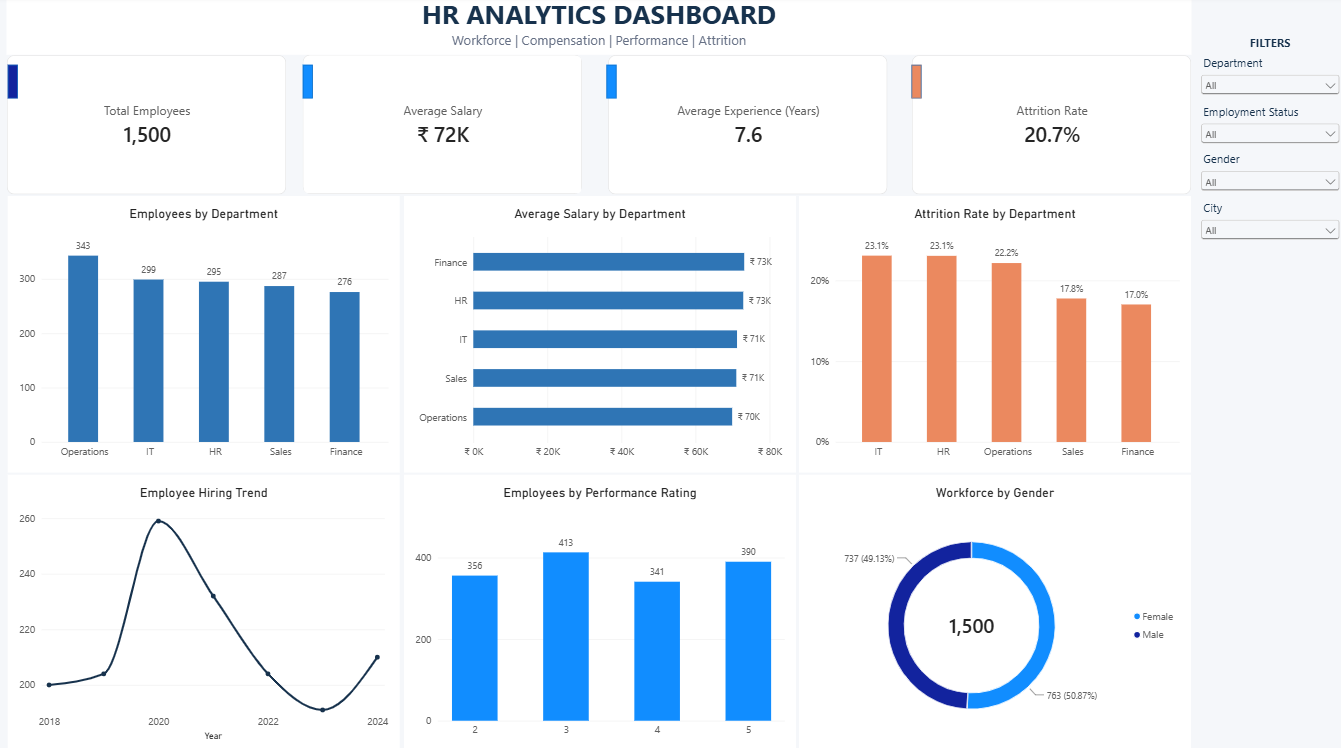

What the dashboard file says about the page in this screenshot:
{"tool":"powerbi","page":{"name":"Page 1","canvas":[1920,1080],"ordinal":0},"visuals":[{"type":"cardVisual","fields":{"Data":["HR_Analytics.Total_Employees"]},"box":[10.7,83.9,400,200],"z":0},{"type":"cardVisual","fields":{"Data":["HR_Analytics.Average_Salary"]},"box":[434.4,83.9,400,200],"z":1000},{"type":"cardVisual","fields":{"Data":["HR_Analytics.Average_Experience"]},"box":[868.9,83.9,400,200],"z":2000},{"type":"cardVisual","fields":{"Data":["HR_Analytics.Attrition_Rate"]},"box":[1303.3,83.9,400,200],"z":3000},{"type":"clusteredColumnChart","title":"Employees by Department","fields":{"Category":["HR_Analytics.Department"],"Y":["HR_Analytics.Total_Employees"]},"box":[12.9,285.7,560,395],"z":4000},{"type":"barChart","title":"Average Salary by Department","fields":{"Category":["HR_Analytics.Department"],"Y":["HR_Analytics.Average_Salary"]},"box":[577.9,285.7,560,395],"z":5000},{"type":"columnChart","title":"Attrition Rate by Department","fields":{"Category":["HR_Analytics.Department"],"Y":["HR_Analytics.Attrition_Rate"]},"box":[1142.9,285.7,560,395],"z":6000},{"type":"lineChart","title":"Employee Hiring Trend","fields":{"Category":["HR_Analytics.Joining_Date.Variation.Date Hierarchy.Year","HR_Analytics.Joining_Date.Variation.Date Hierarchy.Quarter","HR_Analytics.Joining_Date.Variation.Date Hierarchy.Month","HR_Analytics.Joining_Date.Variation.Date Hierarchy.Day"],"Y":["HR_Analytics.Total_Employees"]},"box":[12.9,684.3,560,395],"z":7000},{"type":"columnChart","title":"Employees by Performance Rating","fields":{"Category":["HR_Analytics.Performance_Rating"],"Y":["HR_Analytics.Total_Employees"]},"box":[577.9,684.3,560,395],"z":8000},{"type":"donutChart","title":"Workforce by Gender","fields":{"Category":["HR_Analytics.Gender"],"Y":["HR_Analytics.Total_Employees"]},"box":[1142.9,684.3,560,395],"z":9000},{"type":"slicer","fields":{"Values":["HR_Analytics.Department"]},"box":[1712.5,83.9,207.1,214.3],"z":10000},{"type":"slicer","fields":{"Values":["HR_Analytics.Gender"]},"box":[1712.5,221.4,207.1,114.3],"z":11000},{"type":"slicer","fields":{"Values":["HR_Analytics.City"]},"box":[1712.5,291.1,207.1,292.9],"z":12000},{"type":"slicer","fields":{"Values":["HR_Analytics.Employment_Status"]},"box":[1712.5,153.6,207.1,117.9],"z":13000},{"type":"textbox","box":[10.7,0,1692.9,83.9],"z":14000},{"type":"shape","box":[433.9,98.2,14.3,48.2],"z":15000},{"type":"shape","box":[12.9,98.6,14.3,48.2],"z":16000},{"type":"shape","box":[868.6,98.6,14.3,48.2],"z":17000},{"type":"shape","box":[1302.9,98.6,14.3,48.2],"z":18000},{"type":"textbox","box":[1712.5,55.4,207.1,28.6],"z":19000}]}

Visuals, with their boxes in screenshot pixels (x1, y1, x2, y2), scaled from the page's 1920x1080 canvas onto the 1341x748 screenshot:
cardVisual - HR_Analytics.Total_Employees: <bbox>7, 58, 287, 197</bbox>
cardVisual - HR_Analytics.Average_Salary: <bbox>303, 58, 583, 197</bbox>
cardVisual - HR_Analytics.Average_Experience: <bbox>607, 58, 886, 197</bbox>
cardVisual - HR_Analytics.Attrition_Rate: <bbox>910, 58, 1190, 197</bbox>
"Employees by Department" clusteredColumnChart: <bbox>9, 198, 400, 471</bbox>
"Average Salary by Department" barChart: <bbox>404, 198, 795, 471</bbox>
"Attrition Rate by Department" columnChart: <bbox>798, 198, 1189, 471</bbox>
"Employee Hiring Trend" lineChart: <bbox>9, 474, 400, 747</bbox>
"Employees by Performance Rating" columnChart: <bbox>404, 474, 795, 747</bbox>
"Workforce by Gender" donutChart: <bbox>798, 474, 1189, 747</bbox>
slicer - HR_Analytics.Department: <bbox>1196, 58, 1340, 207</bbox>
slicer - HR_Analytics.Gender: <bbox>1196, 153, 1340, 233</bbox>
slicer - HR_Analytics.City: <bbox>1196, 202, 1340, 404</bbox>
slicer - HR_Analytics.Employment_Status: <bbox>1196, 106, 1340, 188</bbox>
textbox: <bbox>7, 0, 1190, 58</bbox>
shape: <bbox>303, 68, 313, 101</bbox>
shape: <bbox>9, 68, 19, 102</bbox>
shape: <bbox>607, 68, 617, 102</bbox>
shape: <bbox>910, 68, 920, 102</bbox>
textbox: <bbox>1196, 38, 1340, 58</bbox>
